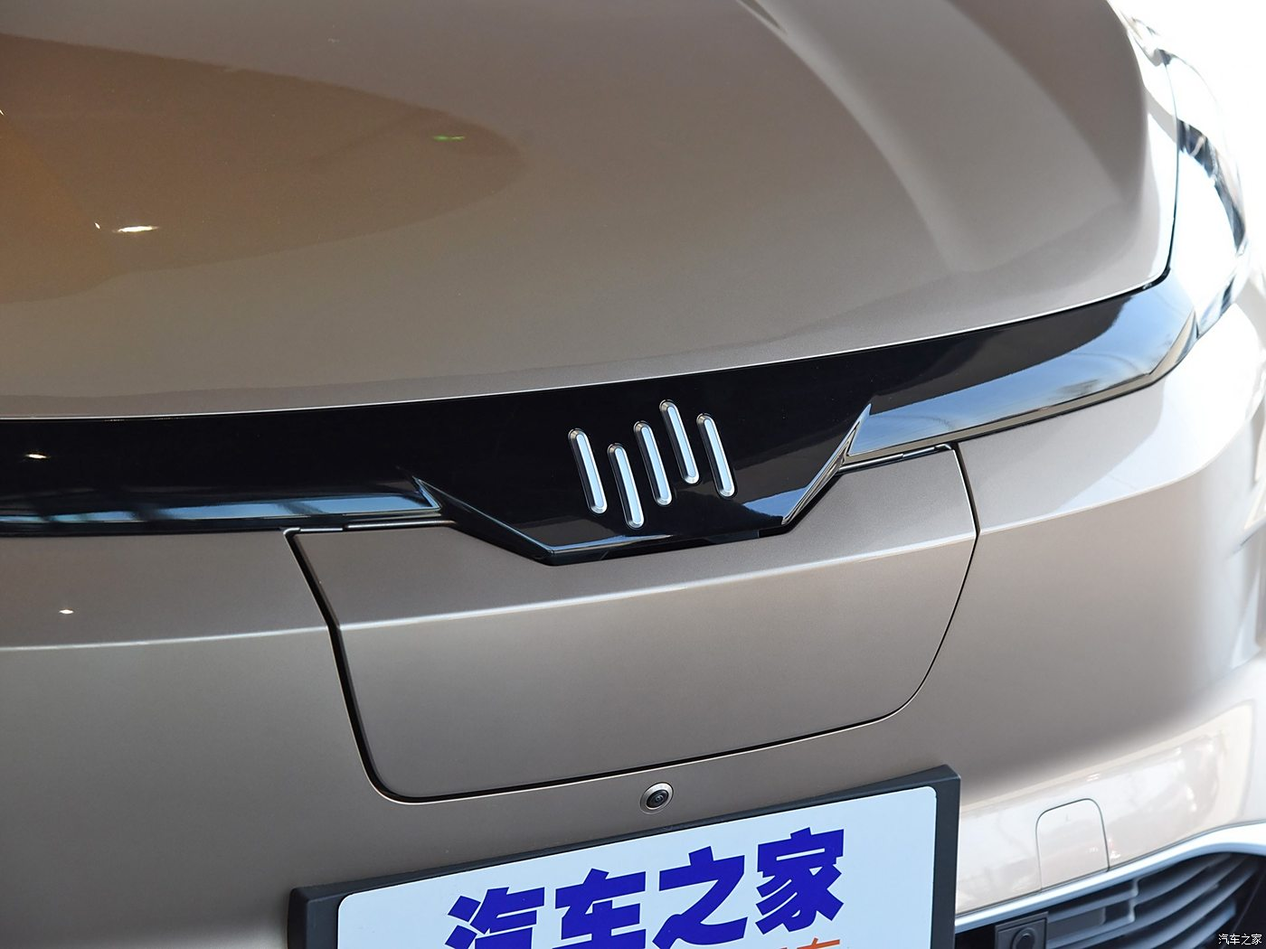WELTMEISTER: (570, 402, 734, 528)
